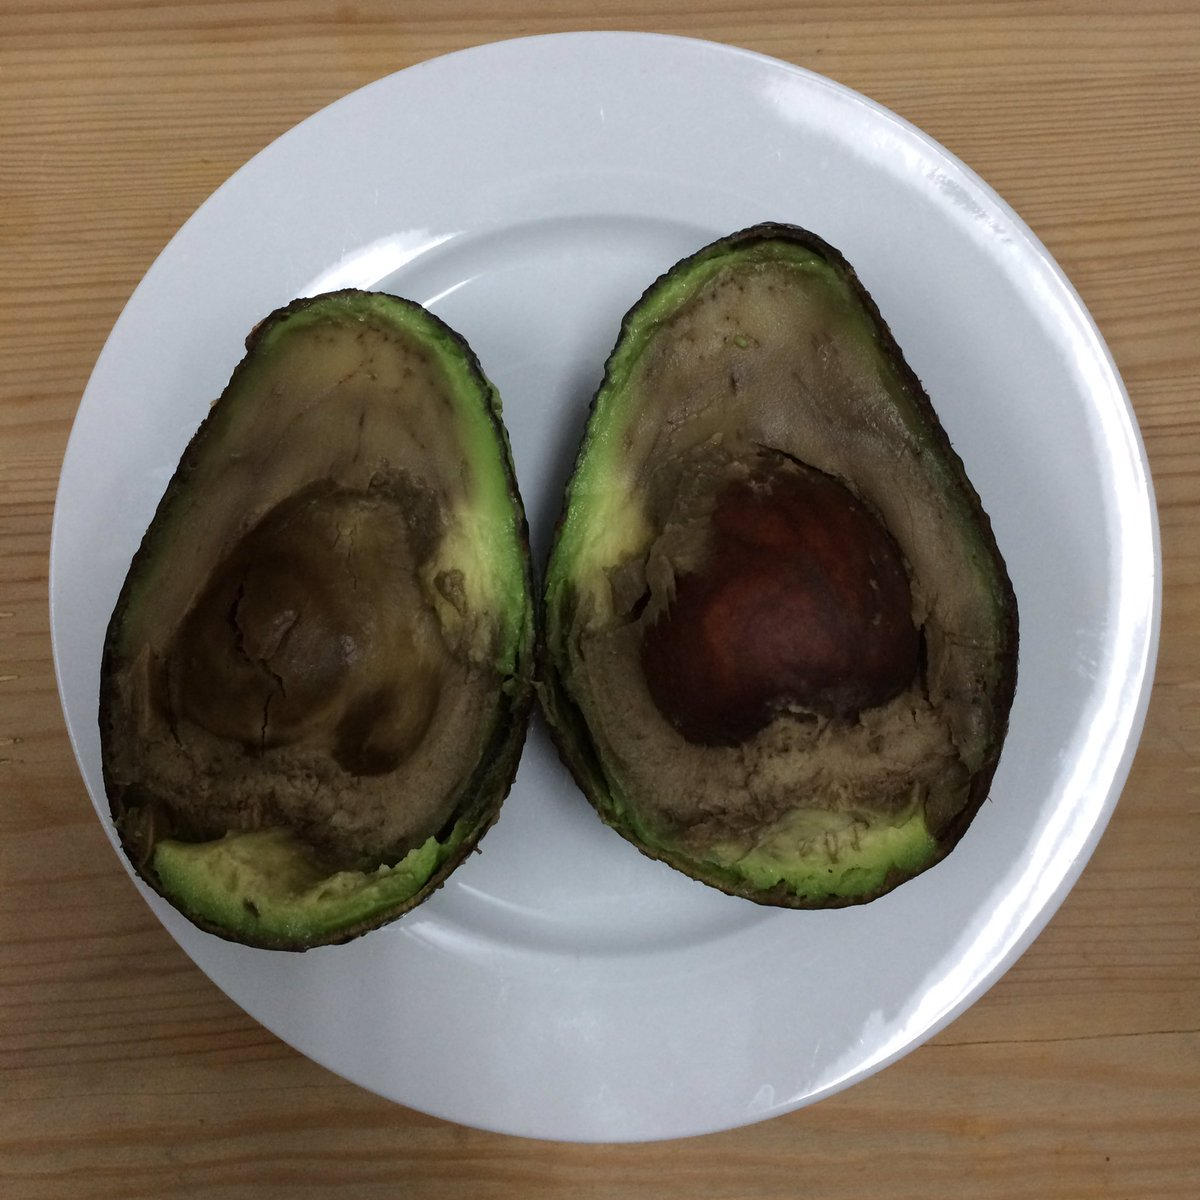damaged_avocado: (551, 229, 980, 895), (97, 278, 526, 927)
